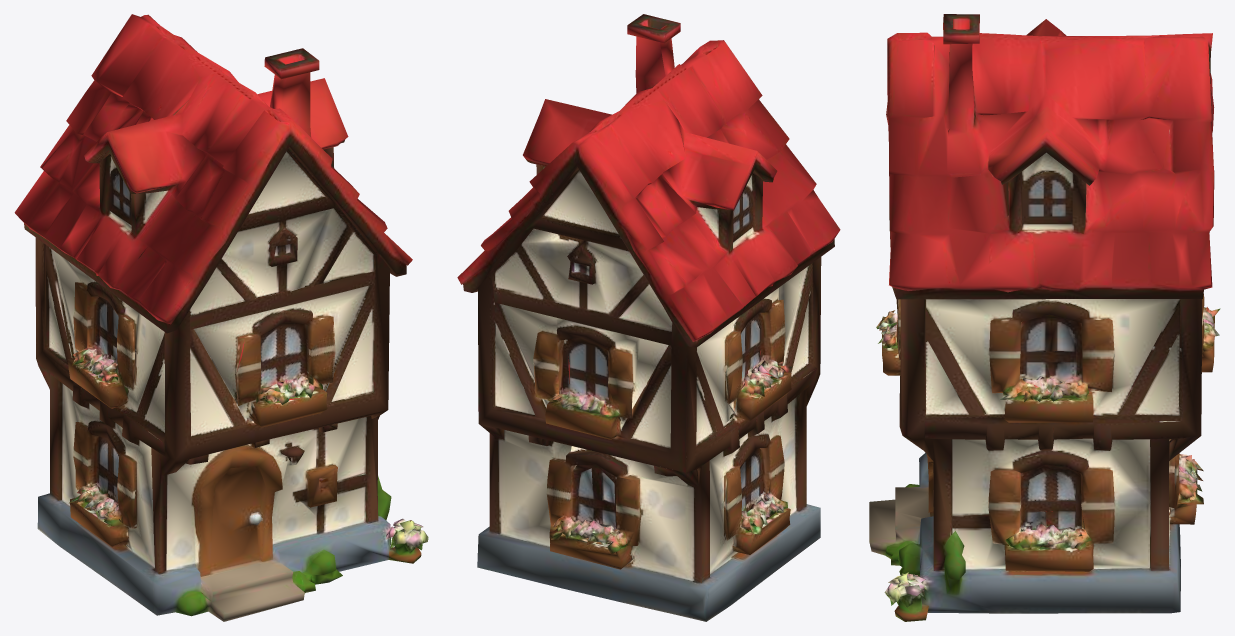
File: house_terra_9.glb
The picture shows the model from 3 angles, left to right: view 1: azimuth 30°, elevation 25°; view 2: azimuth 150°, elevation 25°; view 3: azimuth 270°, elevation 25°; orthographic projection. The views are drawn at different scales.
Parts seen in each view (by area): view 1: ЦІЛЬ; view 2: ЦІЛЬ; view 3: ЦІЛЬ.
Part boxes in pixels (box(x1,y1,x2,y2)): ЦІЛЬ: box(14, 14, 428, 621); ЦІЛЬ: box(457, 14, 840, 621); ЦІЛЬ: box(869, 14, 1220, 621).
Size of the model in its own units: 1.2 by 2.1 by 1.23.
Materials: 1 (1 with a texture image).
